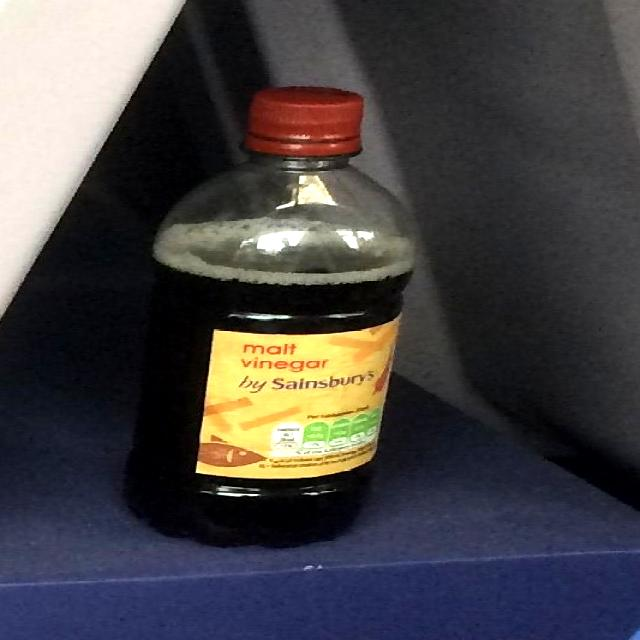Plastic: (128, 86, 415, 547)
